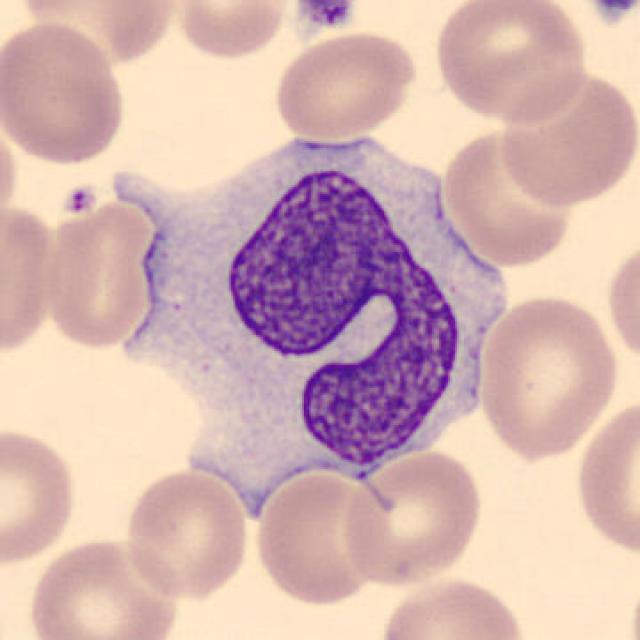Monocyte: (103, 121, 517, 486)
Platelets: (293, 0, 359, 32), (59, 181, 100, 217), (588, 0, 638, 26)
RBC: (473, 291, 622, 464), (338, 446, 485, 591), (437, 120, 578, 270), (494, 65, 638, 210), (251, 462, 393, 608), (430, 0, 590, 127), (0, 16, 130, 167), (39, 195, 164, 352), (119, 465, 253, 603), (23, 532, 183, 640), (270, 28, 420, 143), (0, 421, 82, 568), (18, 0, 181, 69), (572, 393, 638, 563), (375, 573, 532, 640), (0, 197, 60, 359), (172, 0, 290, 62), (604, 232, 640, 368), (0, 116, 21, 243)
